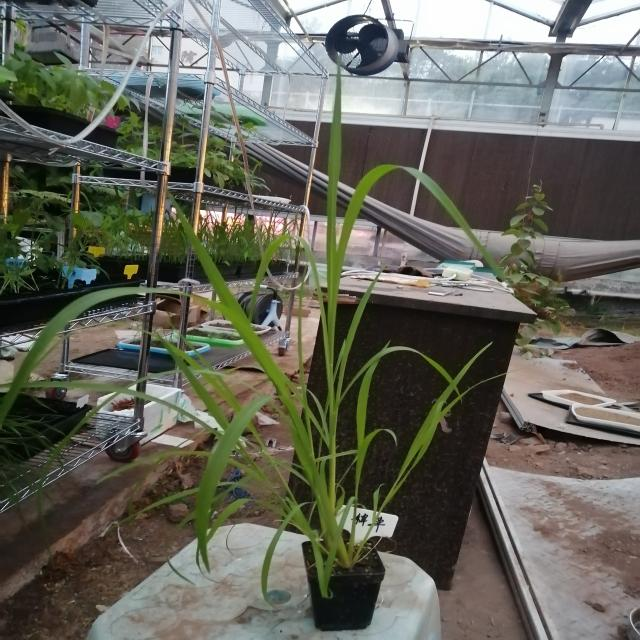barnyard_grass: (95, 188, 501, 558)
